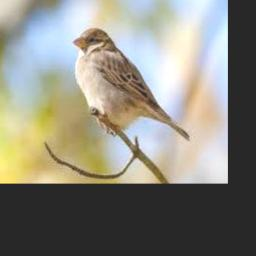Sparrow: (72, 27, 190, 143)
